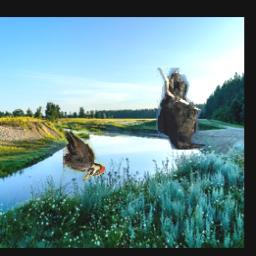Crow: (157, 69, 207, 151)
Woodpecker: (64, 129, 106, 181)
